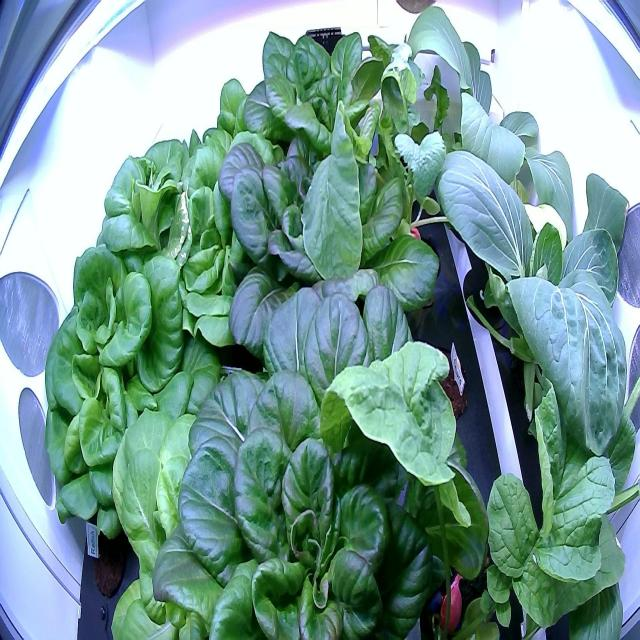Ready: (141, 266, 446, 640), (210, 116, 452, 373), (36, 234, 197, 548), (103, 404, 275, 640), (161, 153, 302, 367), (234, 17, 400, 195), (94, 100, 217, 292), (175, 70, 302, 228)
pod: (414, 316, 482, 425), (79, 500, 140, 610)
